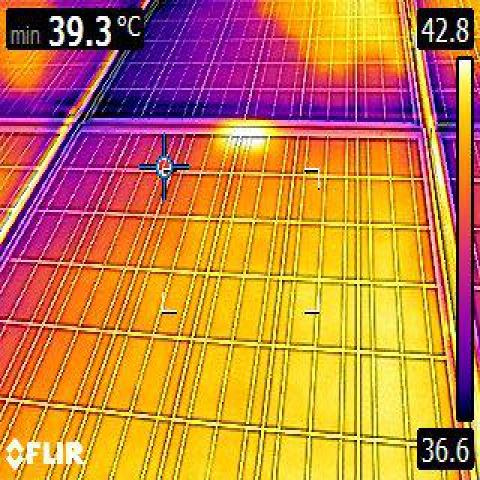fault: (225, 134, 258, 154)
